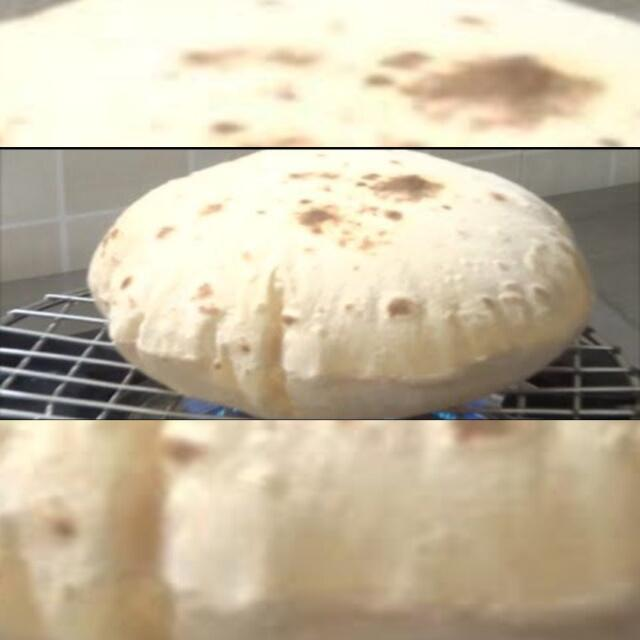ROTI: (86, 151, 602, 420)
